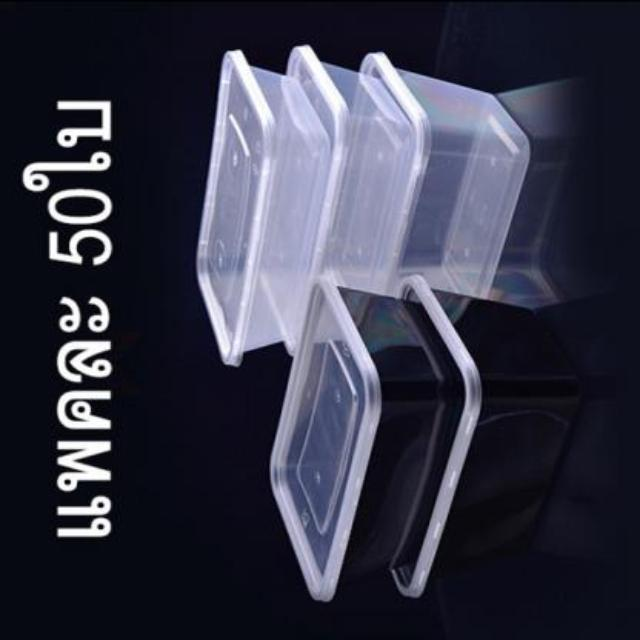plastic_box: (194, 52, 332, 364)
